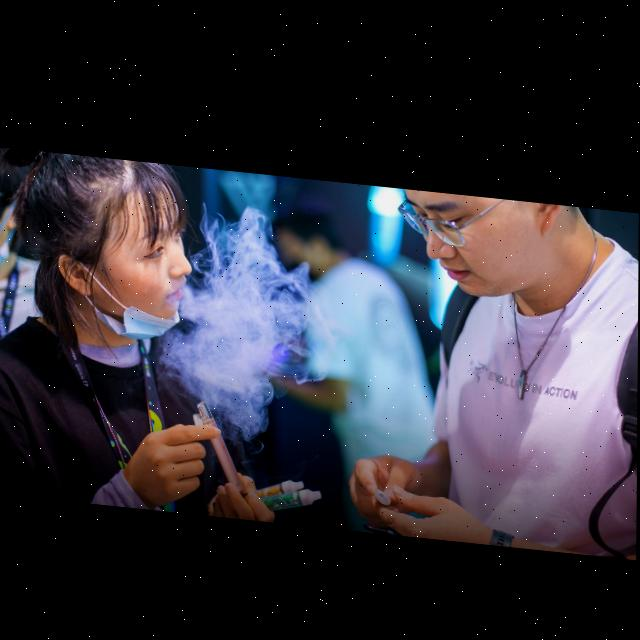vape: (196, 395, 245, 486), (365, 514, 401, 525), (376, 479, 391, 496)
